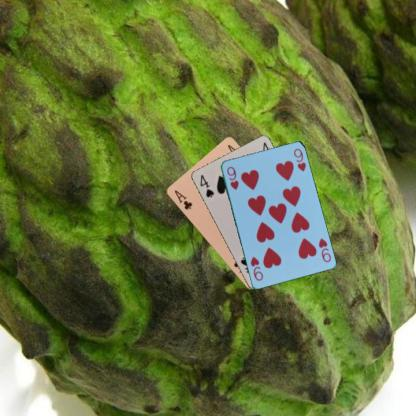4s: (197, 172, 215, 199)
9h: (316, 235, 332, 264), (224, 164, 240, 191)
Ac: (172, 187, 194, 211)
